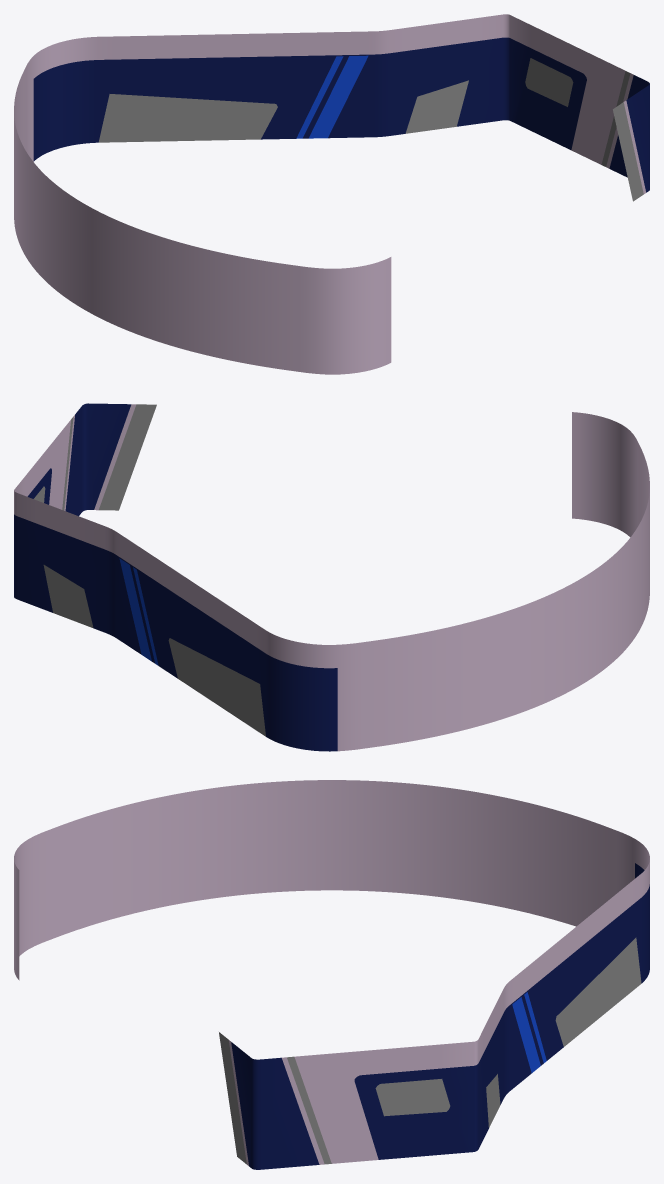
Rendered from CD_JZ_vr_wall02.FBX.
The picture shows the model from 3 angles, top to bottom: view 1: azimuth 30°, elevation 25°; view 2: azimuth 150°, elevation 25°; view 3: azimuth 270°, elevation 25°; orthographic projection. The views are drawn at different scales.
Parts seen in each view (by area): view 1: CD_JZ_vr_wall02; view 2: CD_JZ_vr_wall02; view 3: CD_JZ_vr_wall02.
Part boxes in pixels (x1=…): CD_JZ_vr_wall02: x1=14, y1=14, x2=649, y2=374; CD_JZ_vr_wall02: x1=14, y1=403, x2=649, y2=751; CD_JZ_vr_wall02: x1=14, y1=780, x2=649, y2=1169.
Size of the model in its own units: 3330 by 613 by 3202.
